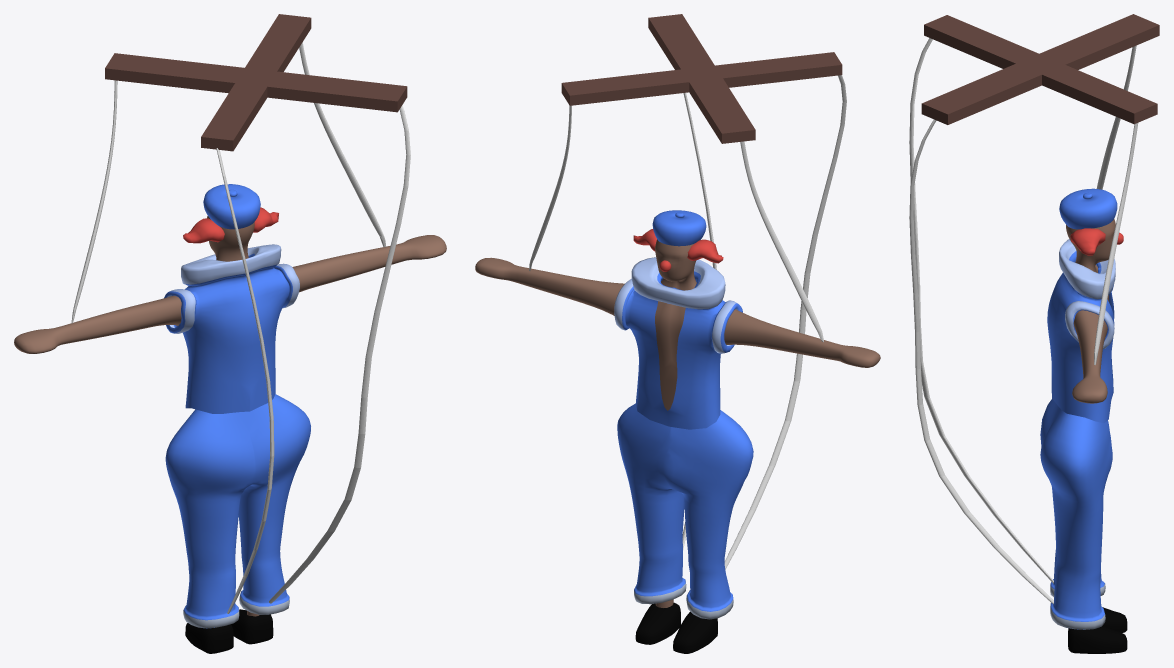
Rendered from puppet 2.fbx.
3 renders of one model, left to right at view 1: azimuth 30°, elevation 25°; view 2: azimuth 150°, elevation 25°; view 3: azimuth 270°, elevation 25°, orthographic. The views are drawn at different scales.
Visible parts, largest first — view 1: Pants.001, Top.001, Puppet Controller.001, Body.001, Cube.001, Shoes.001, Cylinder, Hair; view 2: Pants.001, Top.001, Puppet Controller.001, Body.001, Cube.001, Shoes.001, Cylinder, Hair; view 3: Puppet Controller.001, Pants.001, Cube.001, Top.001, Body.001, Cylinder, Shoes.001, Hair.
Boxes of the visible parts, x1=… form: Pants.001: x1=165, y1=394, x2=310, y2=628; Top.001: x1=164, y1=244, x2=299, y2=413; Puppet Controller.001: x1=105, y1=14, x2=407, y2=151; Body.001: x1=14, y1=216, x2=446, y2=616; Cube.001: x1=71, y1=42, x2=410, y2=613; Shoes.001: x1=185, y1=609, x2=273, y2=653; Cylinder: x1=203, y1=184, x2=260, y2=229; Hair: x1=183, y1=207, x2=278, y2=243; Pants.001: x1=617, y1=403, x2=753, y2=619; Top.001: x1=614, y1=257, x2=742, y2=429; Puppet Controller.001: x1=561, y1=14, x2=842, y2=143; Body.001: x1=475, y1=239, x2=880, y2=616; Cube.001: x1=529, y1=75, x2=846, y2=569; Shoes.001: x1=635, y1=602, x2=717, y2=653; Cylinder: x1=652, y1=210, x2=706, y2=246; Hair: x1=633, y1=229, x2=723, y2=263; Puppet Controller.001: x1=921, y1=14, x2=1159, y2=124; Pants.001: x1=1040, y1=399, x2=1112, y2=629; Cube.001: x1=909, y1=38, x2=1138, y2=604; Top.001: x1=1047, y1=239, x2=1115, y2=423; Body.001: x1=1066, y1=219, x2=1115, y2=403; Cylinder: x1=1059, y1=188, x2=1117, y2=229; Shoes.001: x1=1068, y1=607, x2=1127, y2=653; Hair: x1=1070, y1=228, x2=1105, y2=255.
Bounding box in the file's own units: 1659 × 2164 × 854.
